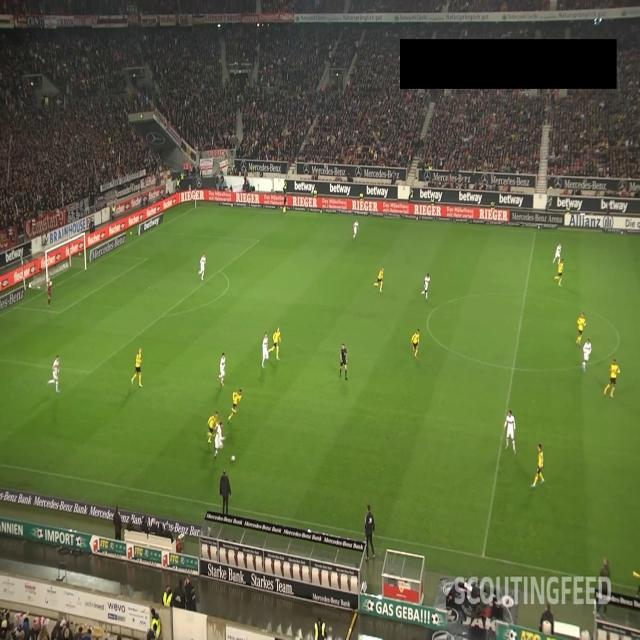ball: (230, 454, 236, 463)
